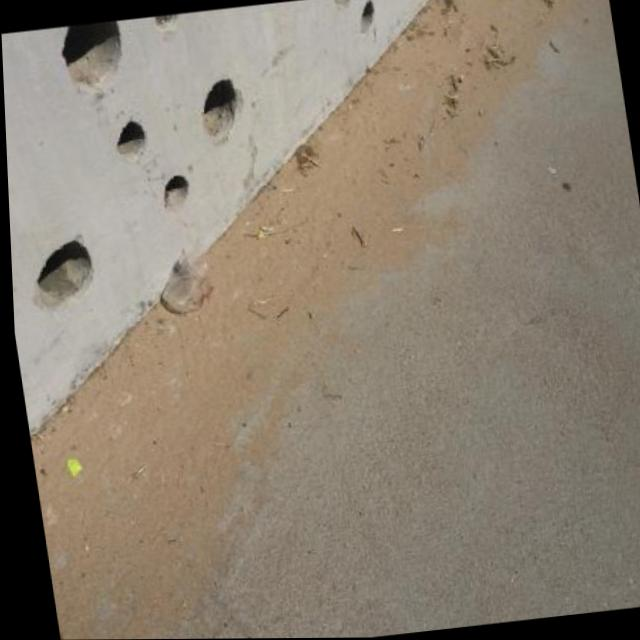plastic: (154, 243, 217, 313)
